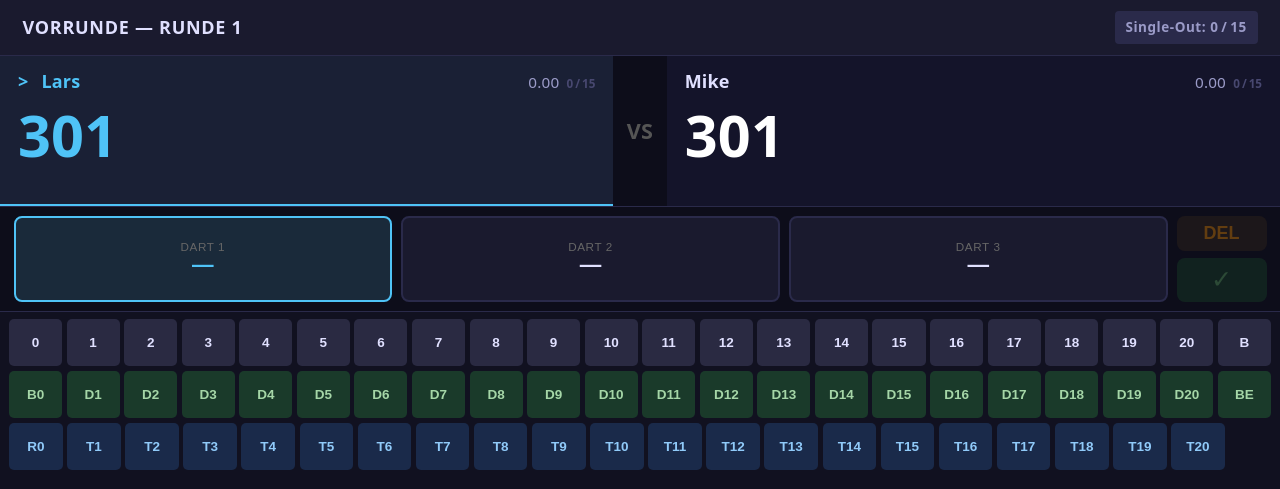
Test: ScoreEntryScreen › clicking a single field assigns it to dart slot 1
The width and height of the screenshot is (1280, 489).
Check: the button "DEL" is shown, box [1176,216,1266,251]
Click the button "T20": (1198, 446) [1171,423,1225,470]
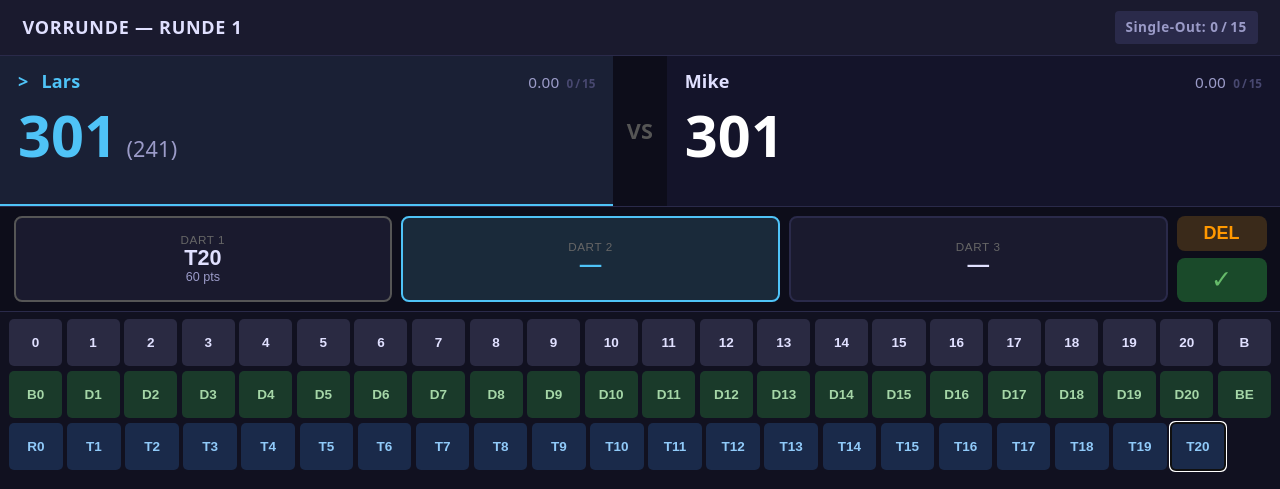
Check: the button with aria-label "Dart 1: T20" is shown, box [14,216,392,302]
